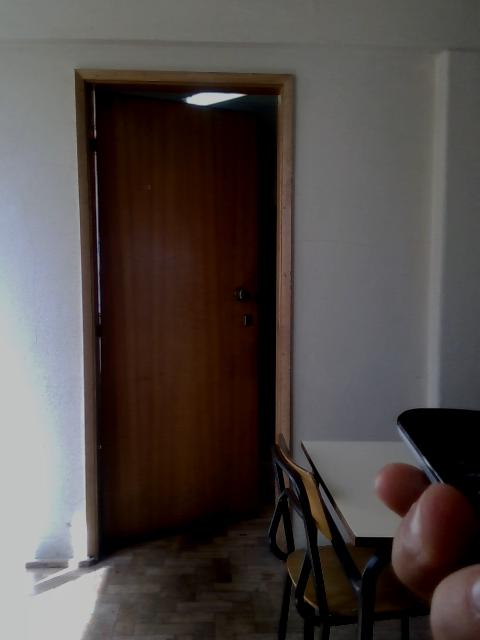semi_door: (72, 66, 295, 567)
